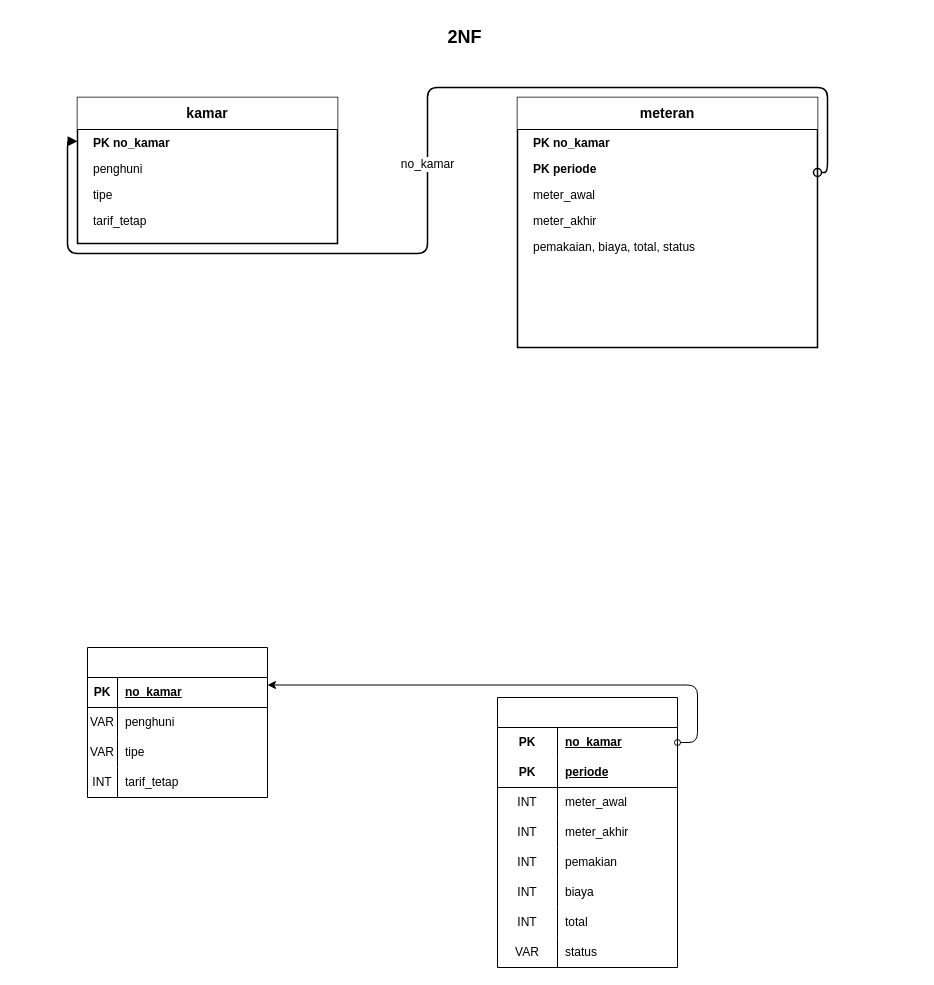
This 934x985 diagram has some shape labels left out. Each missing label, with the box of its shape:
Table: (496, 696, 678, 968)
Table Kamar: (86, 646, 268, 798)
